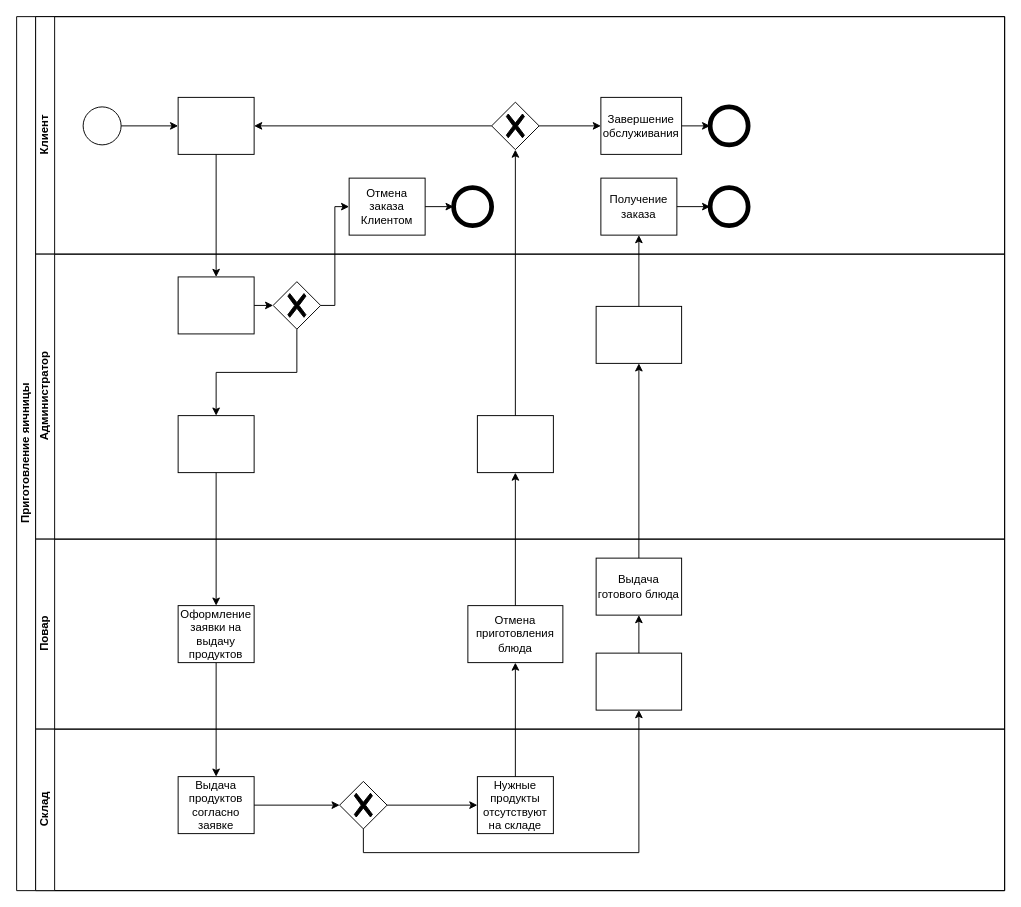
Image size: 1021x907. Some labels were removed from this diagram. Here are the shapes that lost their labels. From the top down, the centre of each, then its label:
At pixel 215 125: "Создание заказа".
At pixel 215 305: "Оформление заказа".
At pixel 638 334: "Выдача готового заказа клиенту".
At pixel 215 444: "Передача заказа на исполнение".
At pixel 514 444: "Отмена исполнения заказа".
At pixel 638 681: "Приготовление блюда".
